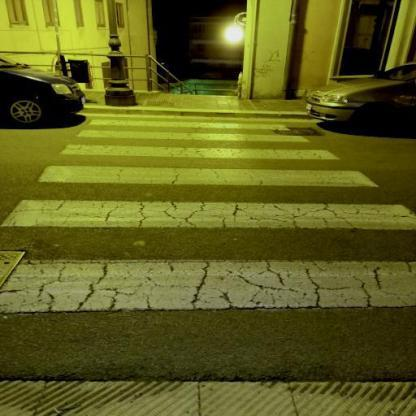crosswalk: (31, 142, 388, 194)
